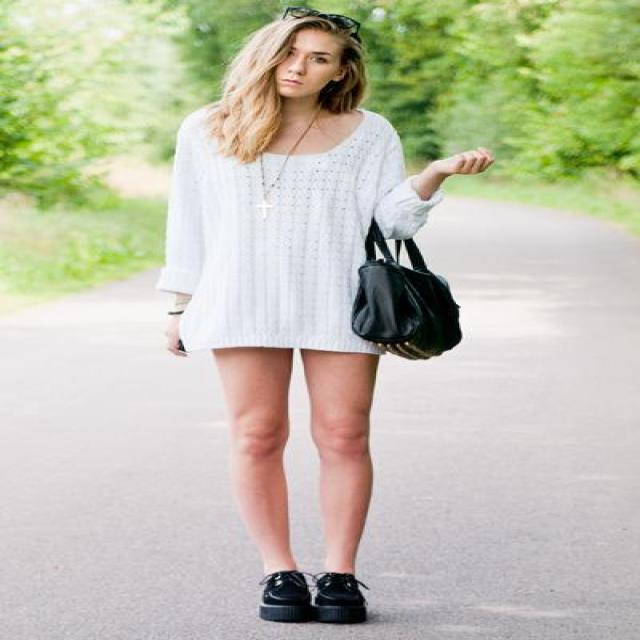bag: (354, 218, 461, 360)
jacket: (155, 108, 442, 370)
shoe: (261, 573, 366, 623)
